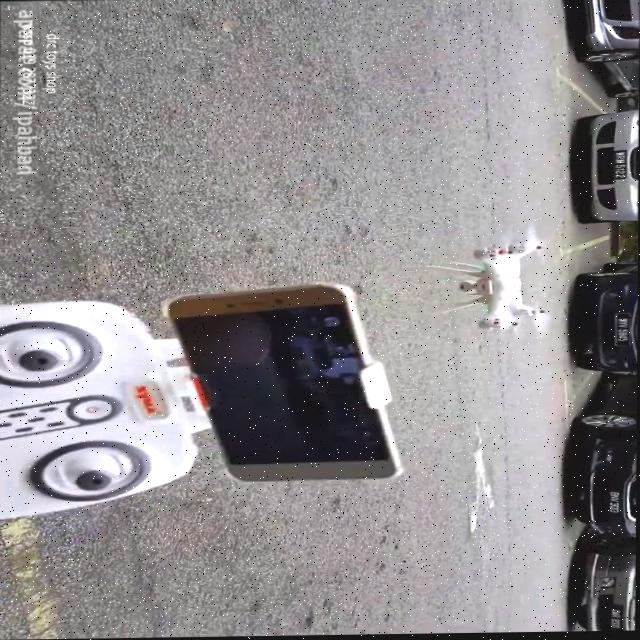drone: (420, 221, 560, 347)
